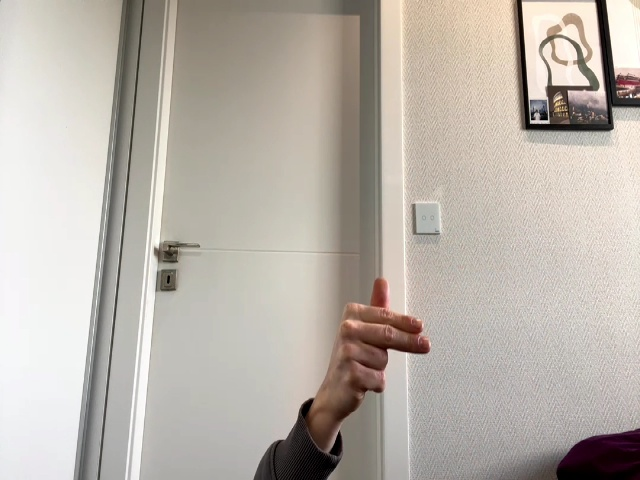N: (327, 278, 431, 396)
